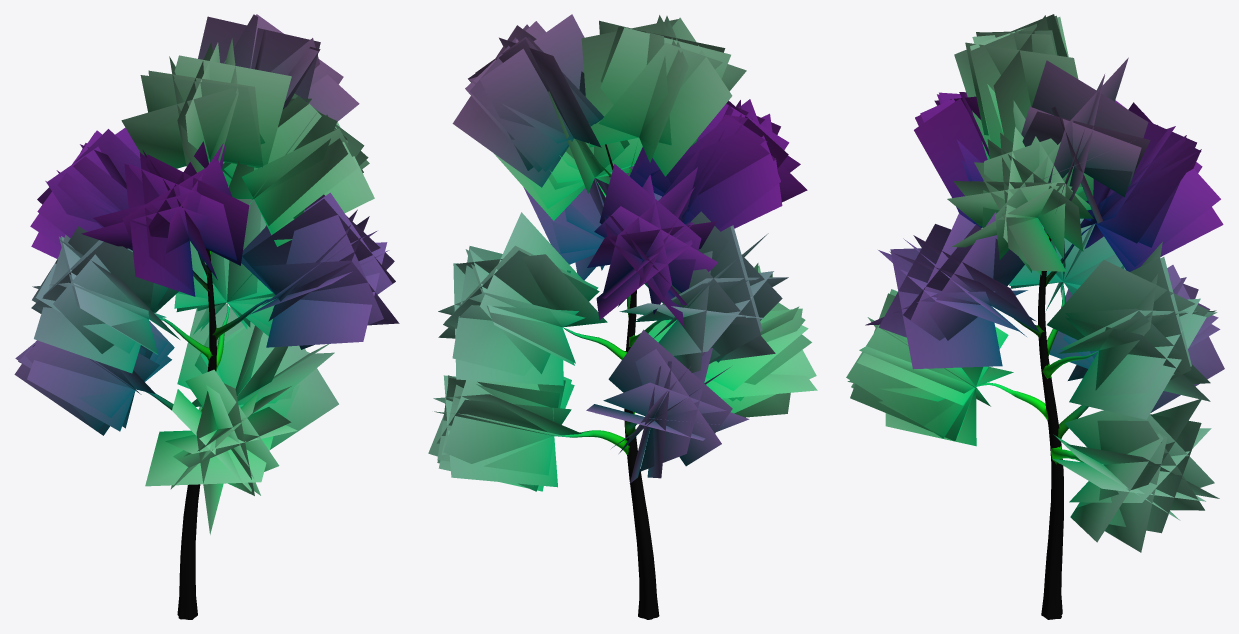
File: M_P6_Tree_1.fbx
3 views of the same model, side by side, from view 1: azimuth 30°, elevation 25°; view 2: azimuth 150°, elevation 25°; view 3: azimuth 270°, elevation 25° (orthographic). The views are drawn at different scales.
Parts seen in each view (by area): view 1: Tree_1; view 2: Tree_1; view 3: Tree_1.
Part boxes in pixels (bbox=[...]): Tree_1: bbox=[14, 14, 399, 619]; Tree_1: bbox=[428, 14, 817, 619]; Tree_1: bbox=[846, 14, 1224, 619].
Bounding box in the file's own units: 496 × 862 × 496.
